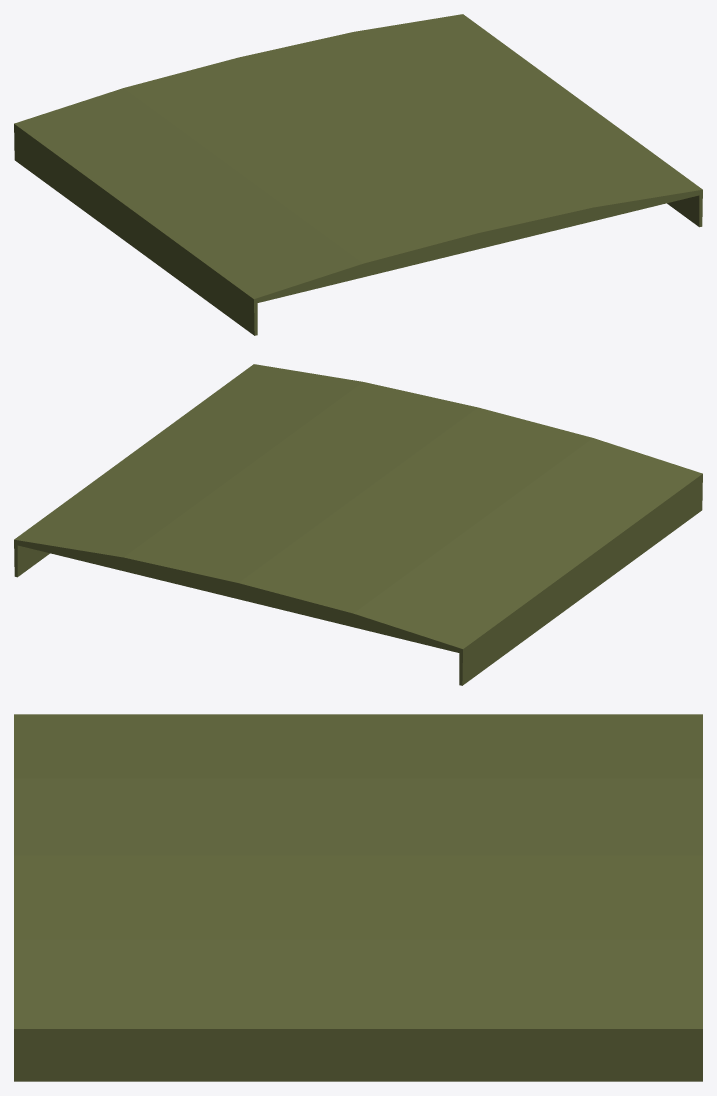
Rendered from Itr_Bed_Double_Blanket_18.FBX.
The picture shows the model from 3 angles, top to bottom: view 1: azimuth 30°, elevation 25°; view 2: azimuth 150°, elevation 25°; view 3: azimuth 270°, elevation 25°; orthographic projection. The views are drawn at different scales.
Visible parts, largest first — view 1: Itr_Bed_Double_Blanket_18; view 2: Itr_Bed_Double_Blanket_18; view 3: Itr_Bed_Double_Blanket_18.
Boxes of the visible parts, left/top/right/bottom form: Itr_Bed_Double_Blanket_18: left=14, top=14, right=702, bottom=335; Itr_Bed_Double_Blanket_18: left=14, top=364, right=702, bottom=685; Itr_Bed_Double_Blanket_18: left=14, top=714, right=702, bottom=1081.
Size of the model in its own units: 70.1 by 7.19 by 64.86.
